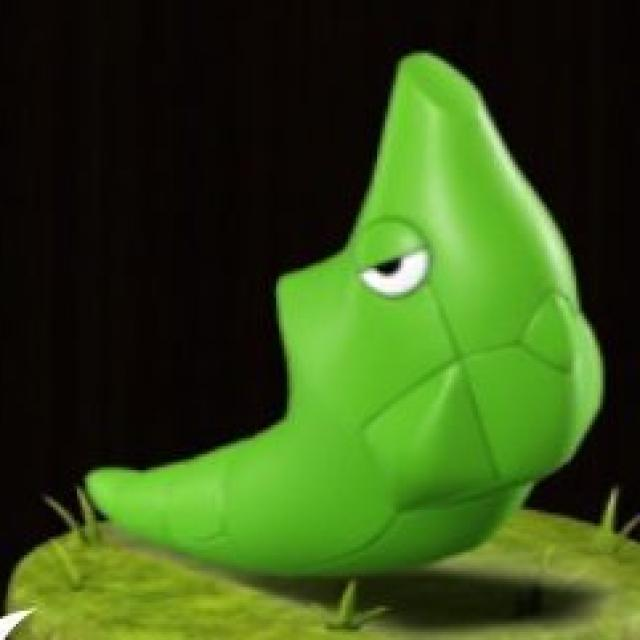Metapod: (82, 54, 600, 575)
